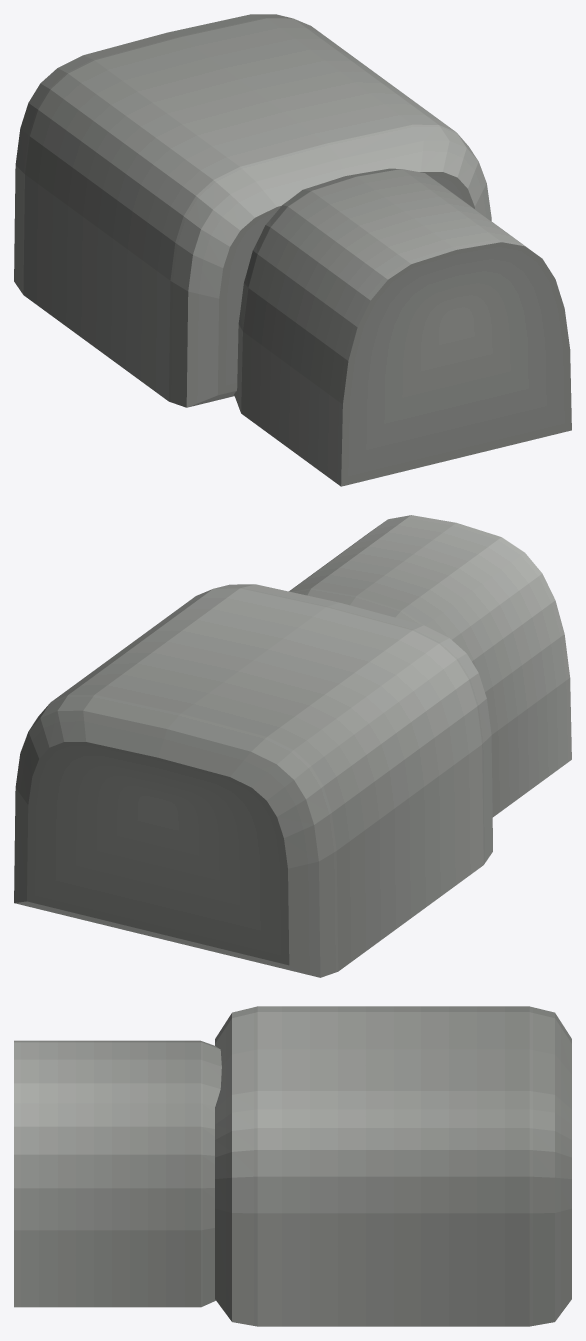
File: streetlight_altosqll.obj
The picture shows the model from 3 angles, top to bottom: view 1: azimuth 30°, elevation 25°; view 2: azimuth 150°, elevation 25°; view 3: azimuth 270°, elevation 25°; orthographic projection. The views are drawn at different scales.
Visible parts, largest first — view 1: fixture; view 2: fixture; view 3: fixture.
Part boxes in pixels (x1,y1,x2,y2): fixture: [14, 14, 571, 486]; fixture: [14, 515, 571, 977]; fixture: [14, 1006, 571, 1326].
Size of the model in its own units: 0.375 by 0.2625 by 0.6156.
